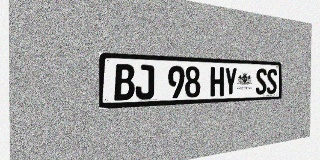8: (185, 66, 200, 98)
9: (168, 65, 185, 98)
B: (114, 64, 135, 101)
H: (210, 67, 224, 96)
J: (135, 64, 154, 100)
S: (256, 68, 267, 95), (267, 69, 277, 94)
Y: (224, 67, 237, 96)
